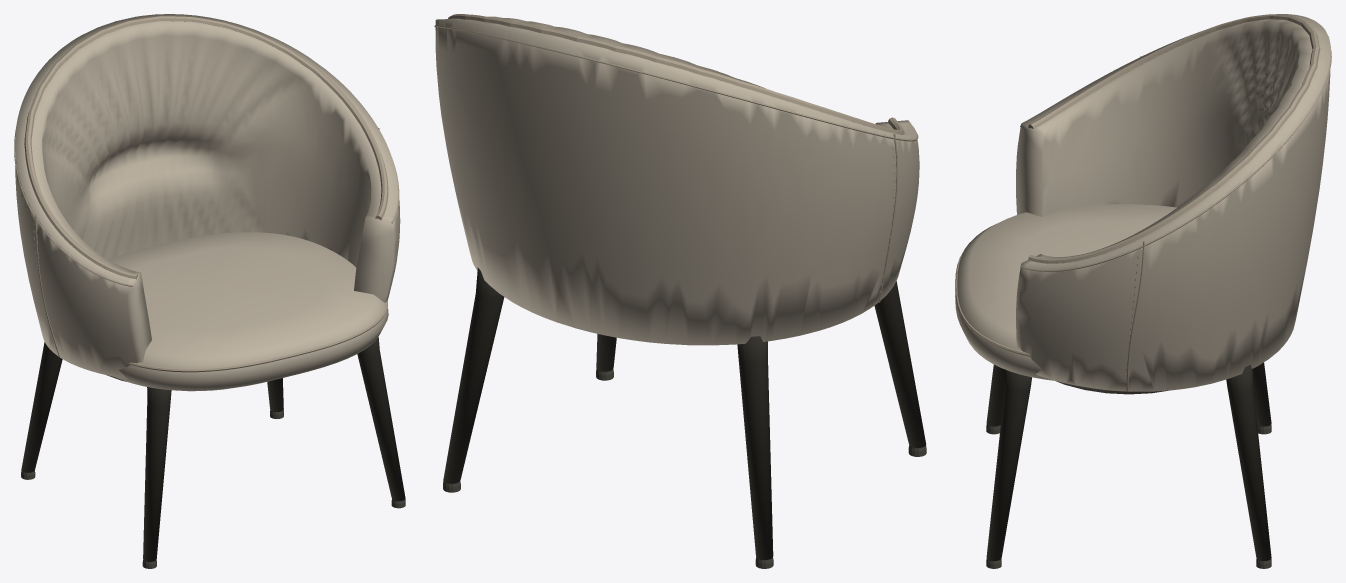
Rendered from chair.glb.
3 renders of one model, left to right at view 1: azimuth 30°, elevation 25°; view 2: azimuth 150°, elevation 25°; view 3: azimuth 270°, elevation 25°, orthographic. The views are drawn at different scales.
Parts seen in each view (by area): view 1: 실내 조명 베이크용 chair; view 2: 실내 조명 베이크용 chair; view 3: 실내 조명 베이크용 chair.
Part boxes in pixels (box(x1,y1,x2,y2)): 실내 조명 베이크용 chair: box(14, 14, 405, 568); 실내 조명 베이크용 chair: box(434, 14, 926, 568); 실내 조명 베이크용 chair: box(955, 14, 1331, 568).
Size of the model in its own units: 0.7868 by 0.884 by 0.6672.
